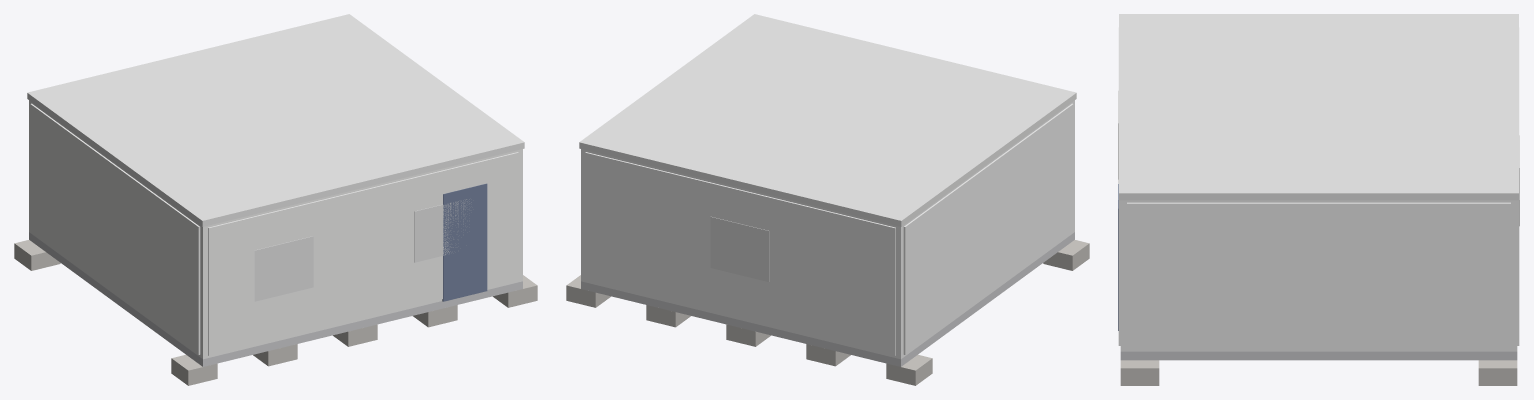
File: Studio-20-Base-AngelWhite-LOD1.glb
The picture shows the model from 3 angles, left to right: view 1: azimuth 30°, elevation 25°; view 2: azimuth 150°, elevation 25°; view 3: azimuth 270°, elevation 25°; orthographic projection. The views are drawn at different scales.
Visible parts, largest first — view 1: RoofMain, ExteriorPanelsStandard, WindowsStandard, EntryDoor, FoundationBlocks, BaseFrame, ExteriorShell; view 2: ExteriorPanelsStandard, RoofMain, FoundationBlocks, BaseFrame, ExteriorShell, WindowsStandard; view 3: RoofMain, ExteriorPanelsStandard, ExteriorShell, BaseFrame, FoundationBlocks.
Boxes of the visible parts, x1=… form: RoofMain: x1=27, y1=14, x2=524, y2=226; ExteriorPanelsStandard: x1=30, y1=103, x2=518, y2=355; WindowsStandard: x1=254, y1=199, x2=471, y2=301; EntryDoor: x1=442, y1=183, x2=487, y2=301; FoundationBlocks: x1=14, y1=240, x2=537, y2=385; BaseFrame: x1=29, y1=232, x2=522, y2=366; ExteriorShell: x1=29, y1=100, x2=522, y2=359; ExteriorPanelsStandard: x1=585, y1=103, x2=1073, y2=355; RoofMain: x1=579, y1=14, x2=1076, y2=226; FoundationBlocks: x1=566, y1=240, x2=1089, y2=385; BaseFrame: x1=581, y1=232, x2=1074, y2=366; ExteriorShell: x1=581, y1=100, x2=1074, y2=359; WindowsStandard: x1=710, y1=216, x2=769, y2=281; RoofMain: x1=1119, y1=14, x2=1518, y2=200; ExteriorPanelsStandard: x1=1118, y1=27, x2=1519, y2=349; ExteriorShell: x1=1120, y1=200, x2=1517, y2=351; BaseFrame: x1=1120, y1=351, x2=1517, y2=360; FoundationBlocks: x1=1120, y1=360, x2=1517, y2=385.
Size of the model in its own units: 7.14 by 3.17 by 6.24.
